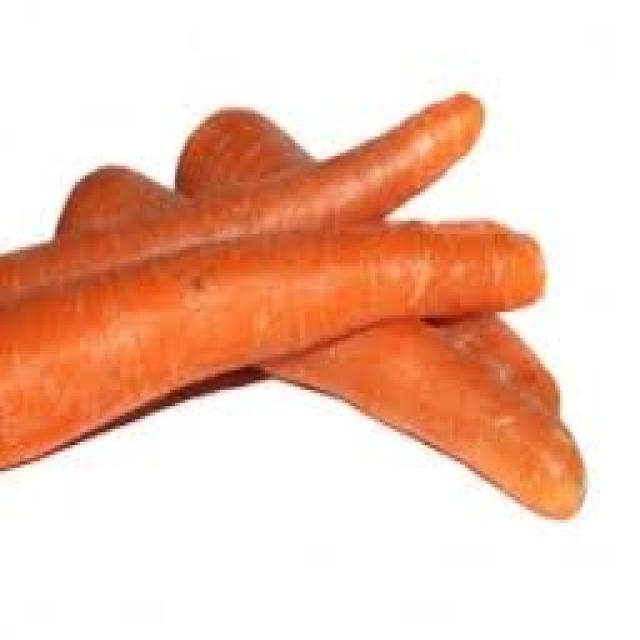Stale_Carrot: (0, 79, 494, 331)
